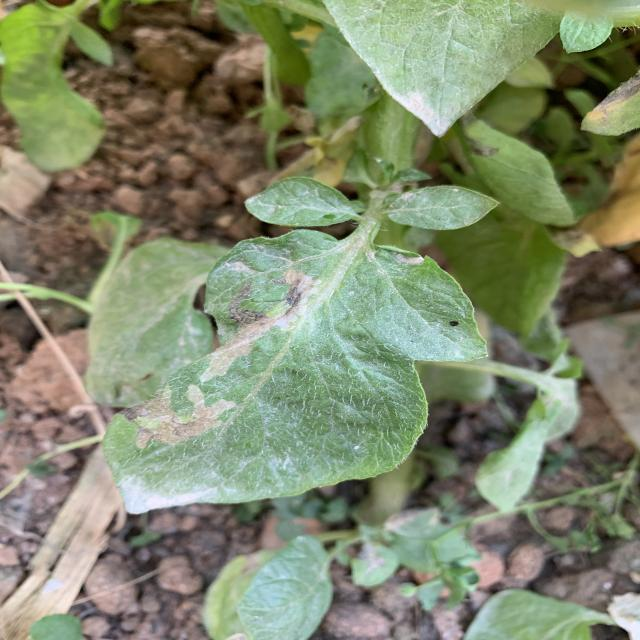lateblight: (200, 268, 320, 382), (120, 385, 235, 449)
